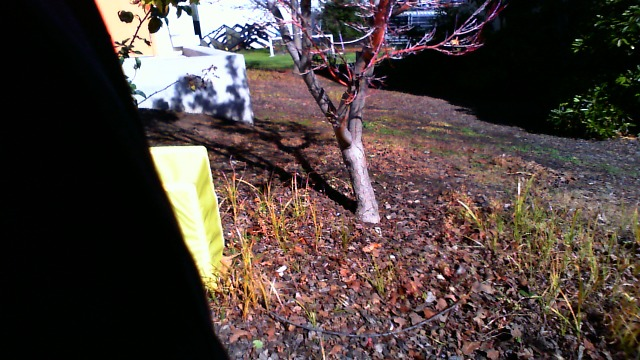cube: (144, 140, 228, 271)
